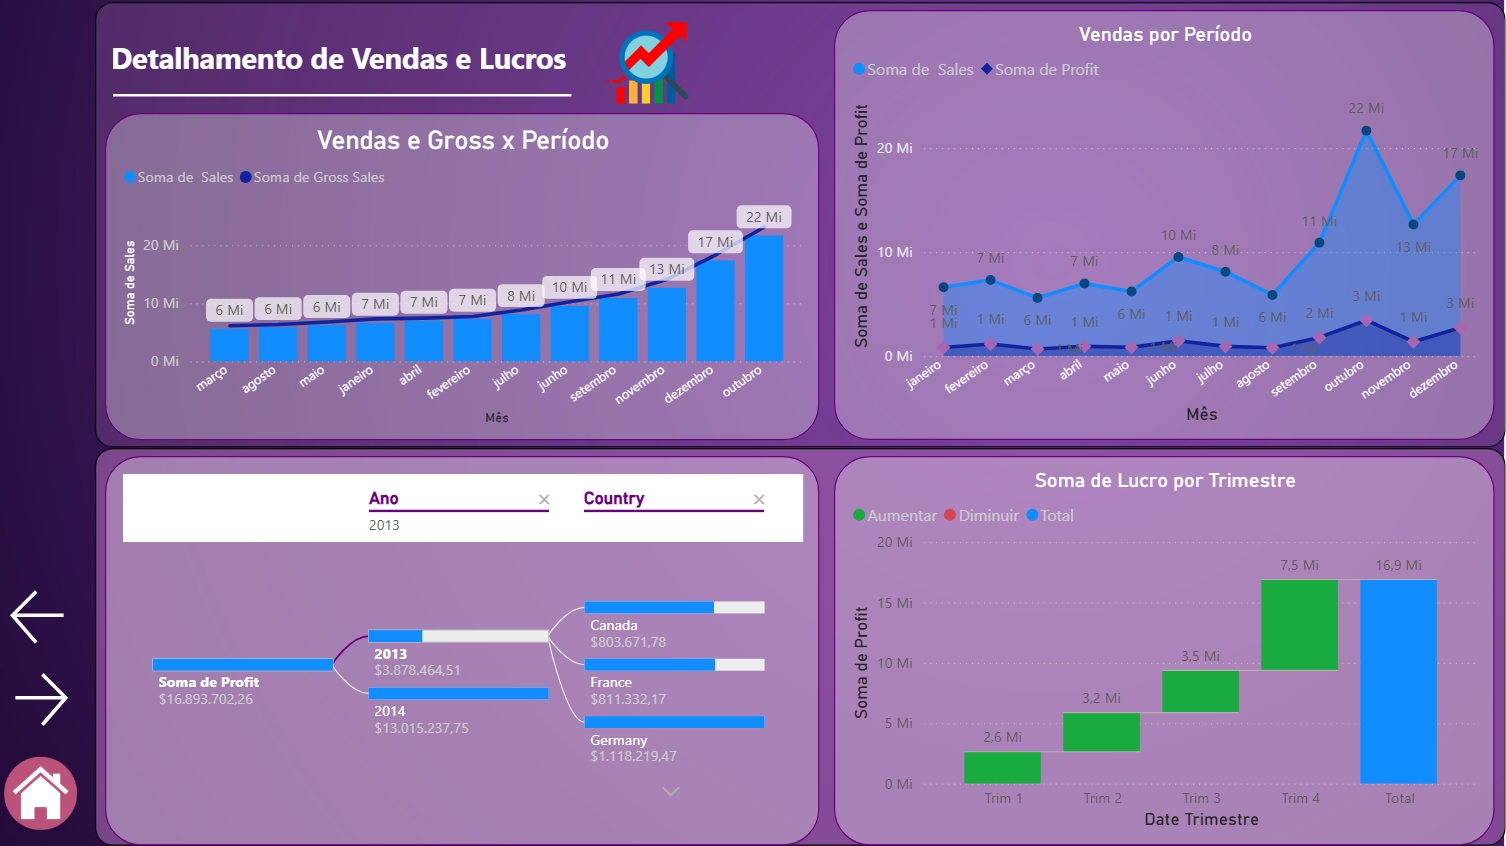

The dashboard page shown, as its layout file describes it:
{"tool":"powerbi","page":{"name":"DVL_04","canvas":[1280,720],"ordinal":4},"visuals":[{"type":"image","title":"fundo_purple","box":[0,0,1280.2,720],"z":0},{"type":"shape","box":[91,7,1181,373],"z":1000},{"type":"shape","box":[91,380,1181,333],"z":2000},{"type":"areaChart","title":"Vendas por Período","fields":{"Category":["financials.Date.Variation.Hierarquia de datas.Trimestre","financials.Date.Variation.Hierarquia de datas.Mês"],"Y":["Sum(financials. Sales)","Sum(financials.Profit)"]},"box":[710,13.6,553.1,360],"z":3000},{"type":"image","box":[512,14,85,86],"z":4000},{"type":"textbox","box":[100,32,430,71],"z":5000},{"type":"image","box":[9.1,633.9,73.5,70.7],"z":6000},{"type":"shape","box":[106,68,384,34],"z":7000},{"type":"actionButton","box":[15,493,67,57],"z":8000},{"type":"lineClusteredColumnComboChart","title":"Vendas e Gross x Período","fields":{"Category":["financials.Date.Variation.Hierarquia de datas.Mês"],"Y":["Sum(financials. Sales)"],"Y2":["Sum(financials.Gross Sales)"]},"box":[99.7,99.7,597.6,273.9],"z":9000},{"type":"decompositionTreeVisual","fields":{"Analyze":["Sum(financials.Profit)"],"ExplainBy":["financials.Date.Variation.Hierarquia de datas.Ano","financials.Country"]},"box":[99.7,387.2,597.6,325.5],"z":10000},{"type":"waterfallChart","title":"Soma de Lucro por Trimestre","fields":{"Category":["financials.Date.Variation.Hierarquia de datas.Trimestre"],"Y":["Sum(financials.Profit)"]},"box":[710,387.2,553.1,325.5],"z":11000},{"type":"actionButton","title":"Botão - Next","box":[17.2,562.2,58,56.2],"z":12000}]}

Visuals, with their boxes in screenshot pixels (x1, y1, x2, y2), scaled from the page's 1280x720 canvas onto the 1506x846 screenshot:
"fundo_purple" image: (0, 0, 1505, 845)
shape: (107, 8, 1497, 446)
shape: (107, 446, 1497, 838)
"Vendas por Período" areaChart: (835, 16, 1486, 439)
image: (602, 16, 702, 118)
textbox: (118, 38, 624, 121)
image: (11, 745, 97, 828)
shape: (125, 80, 577, 120)
actionButton: (18, 579, 96, 646)
"Vendas e Gross x Período" lineClusteredColumnComboChart: (117, 117, 820, 439)
decompositionTreeVisual - Sum(financials.Profit) x financials.Date.Variation.Hierarquia de datas.Ano: (117, 455, 820, 837)
"Soma de Lucro por Trimestre" waterfallChart: (835, 455, 1486, 837)
"Botão - Next" actionButton: (20, 661, 88, 727)
